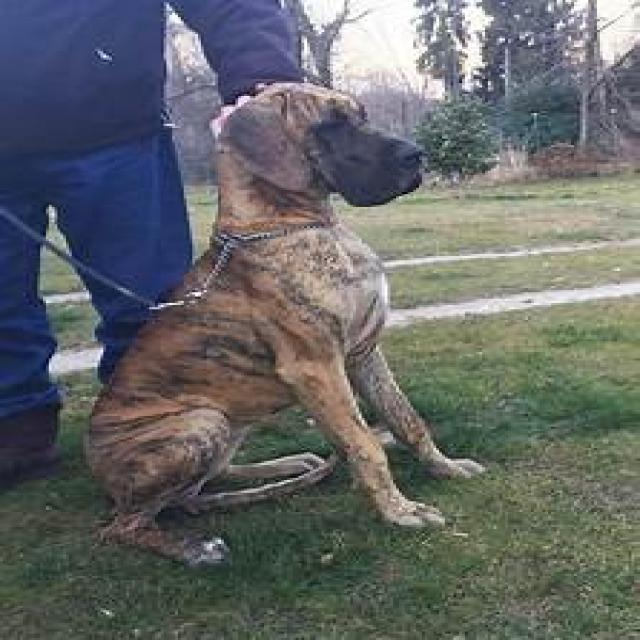animal: (91, 72, 451, 590)
